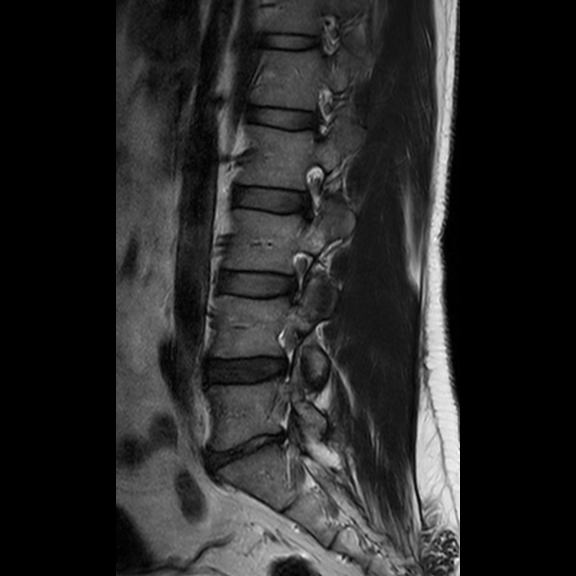RFS0: (284, 155, 333, 226)
RFS1: (270, 240, 322, 310)
